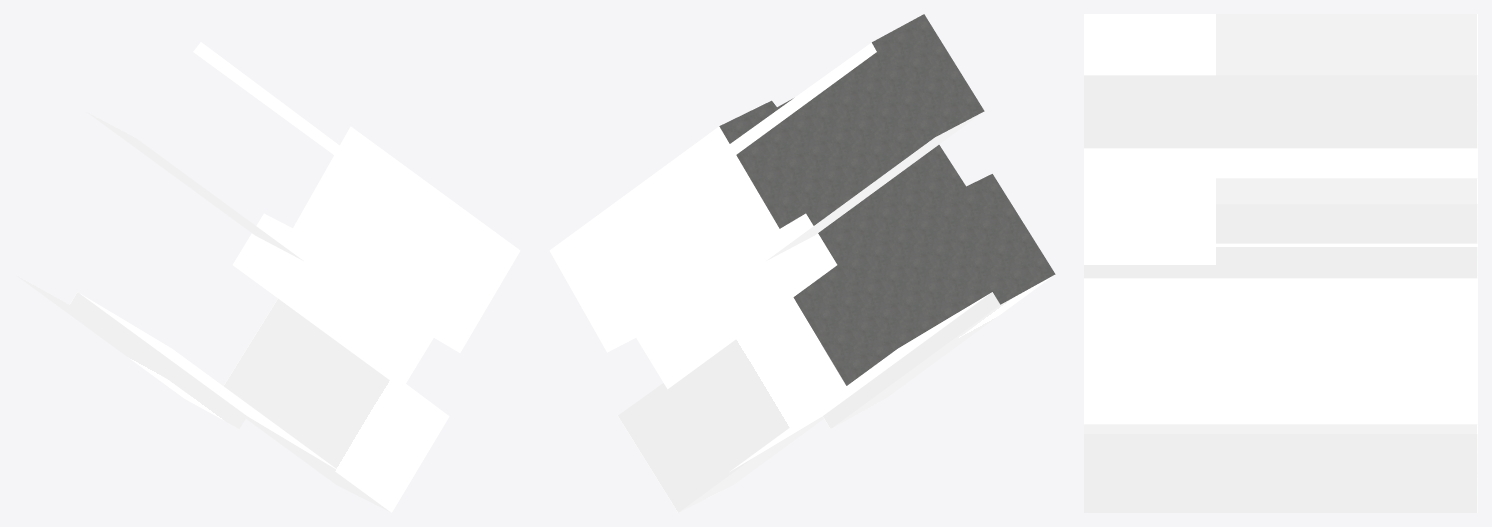
3 renders of one model, left to right at view 1: azimuth 30°, elevation 25°; view 2: azimuth 150°, elevation 25°; view 3: azimuth 270°, elevation 25°, orthographic. The views are drawn at different scales.
Visible parts, largest first — view 1: BuildingMaster_1979193914604462286200000000_0; view 2: BuildingMaster_1979193914604462286200000000_0, BuildingMaster_1979193914604462286200000000_1; view 3: BuildingMaster_1979193914604462286200000000_0.
Part boxes in pixels (left/top/right/bottom): BuildingMaster_1979193914604462286200000000_0: left=16, top=42, right=520, bottom=512; BuildingMaster_1979193914604462286200000000_0: left=549, top=42, right=1053, bottom=512; BuildingMaster_1979193914604462286200000000_1: left=719, top=14, right=1055, bottom=385; BuildingMaster_1979193914604462286200000000_0: left=1084, top=14, right=1477, bottom=512.
Bounding box in the file's own units: 32 × 35.75 × 28.
